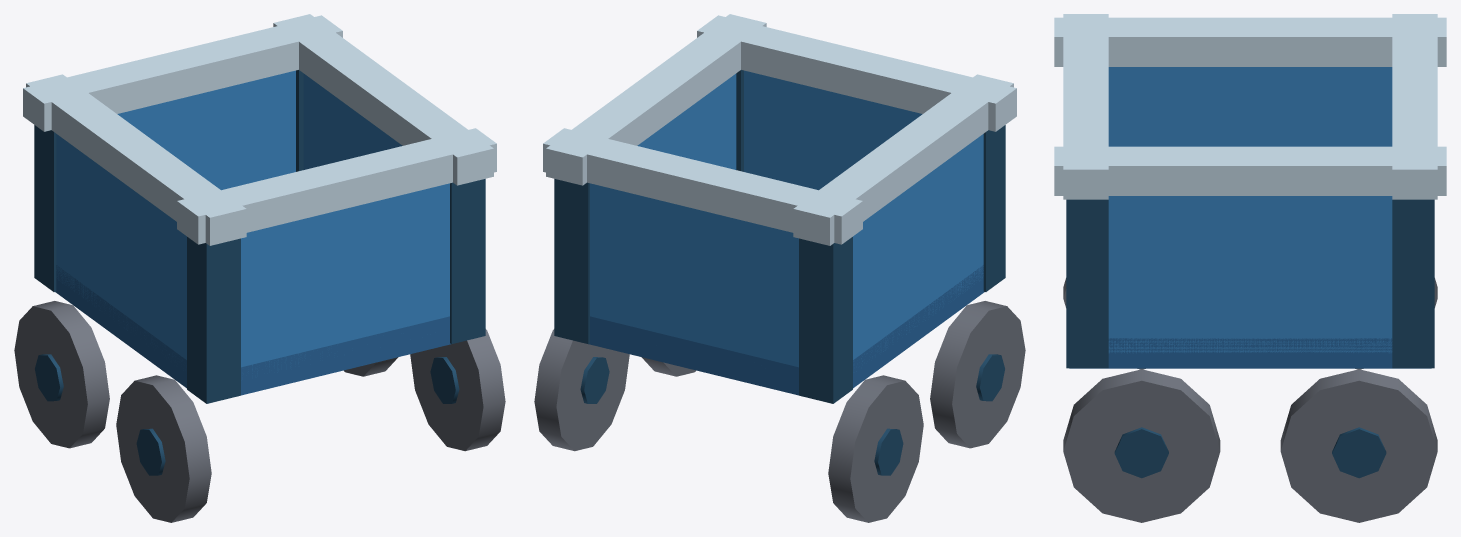
The model's file is cart.glb.
The picture shows the model from 3 angles, left to right: view 1: azimuth 30°, elevation 25°; view 2: azimuth 150°, elevation 25°; view 3: azimuth 270°, elevation 25°; orthographic projection. The views are drawn at different scales.
Visible parts, largest first — view 1: cart_rig; view 2: cart_rig; view 3: cart_rig.
Boxes of the visible parts, box(x1,y1,x2,y2) form: cart_rig: box(14, 14, 505, 522); cart_rig: box(534, 14, 1025, 522); cart_rig: box(1054, 14, 1446, 522).
Size of the model in its own units: 0.66 by 0.6375 by 0.65.
